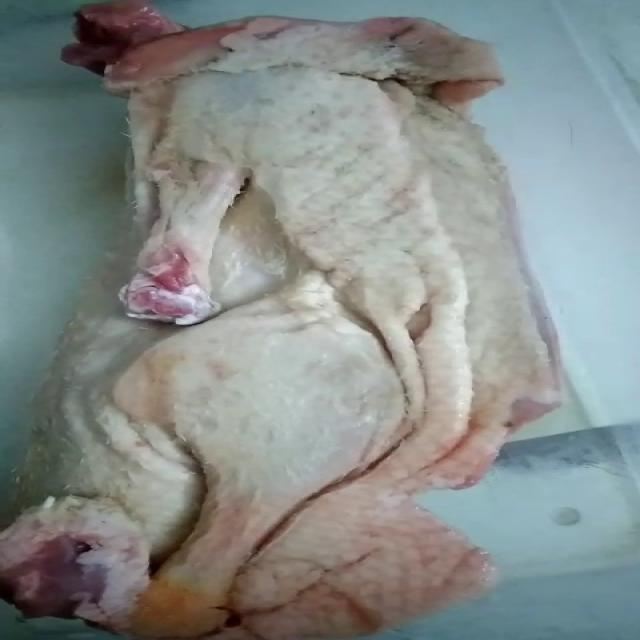chicken: (1, 0, 559, 640)
